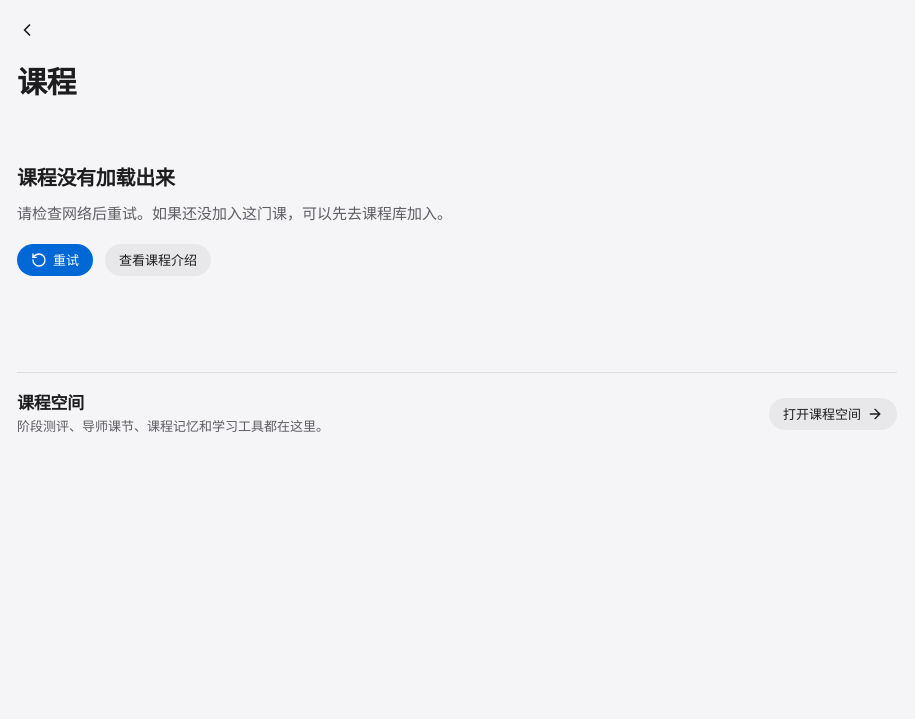
CourseHomeView › stays in place with recovery when the course fails to load
Click the button "重试" at (55, 260), box [17,244,93,276]
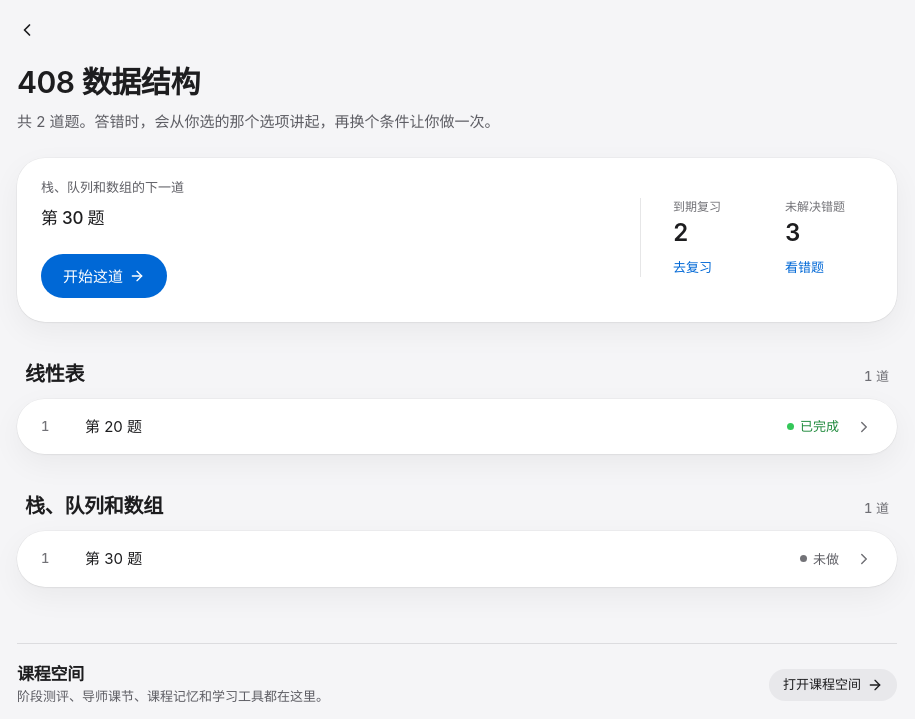
Result: the text "408 数据结构" is shown at [17,64,200,100]
